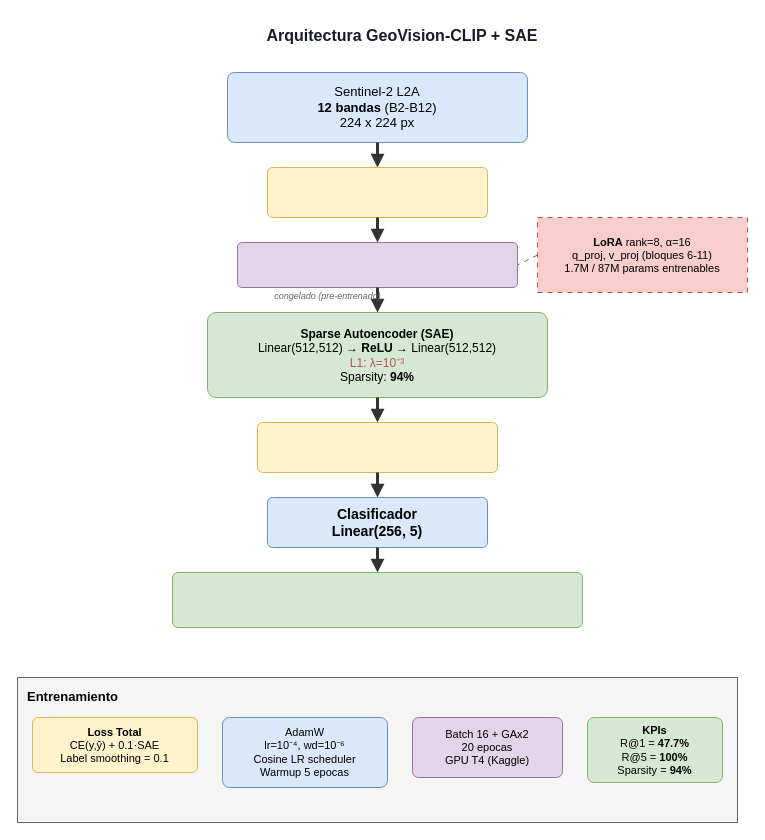
The diagram is 765 pixels wide and 840 high, and some of its shapes have lost their labels. The shapes that lost their labels are listed below. From the top down, each one's box as (x1, y1, x2, y2) in pixels, then its label:
(266, 166, 488, 218): conv1 adaptada 3 canales → 12 canales
(236, 242, 518, 288): RemoteCLIP ViT-B/32
(256, 422, 498, 472): Projection Head Linear(512, 256)
(172, 572, 582, 628): 5 Clases de Cobertura Veg. densa | Suelo constr. | Agua | Cultivos | Pastizales
